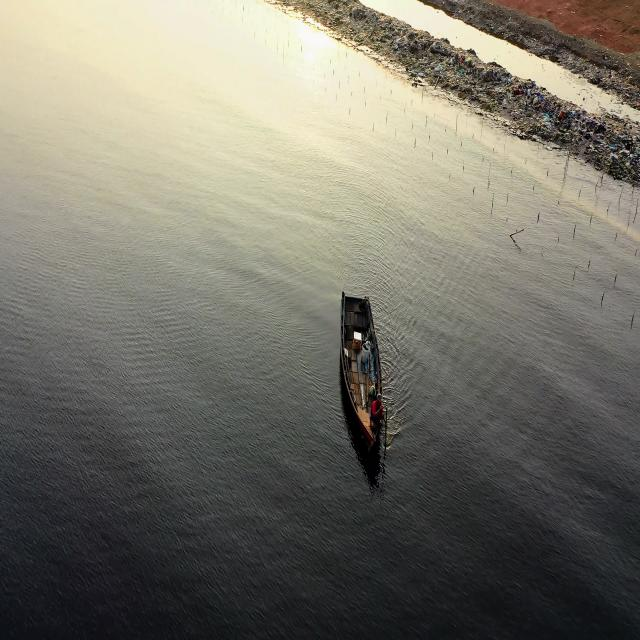ship: (334, 288, 390, 457)
